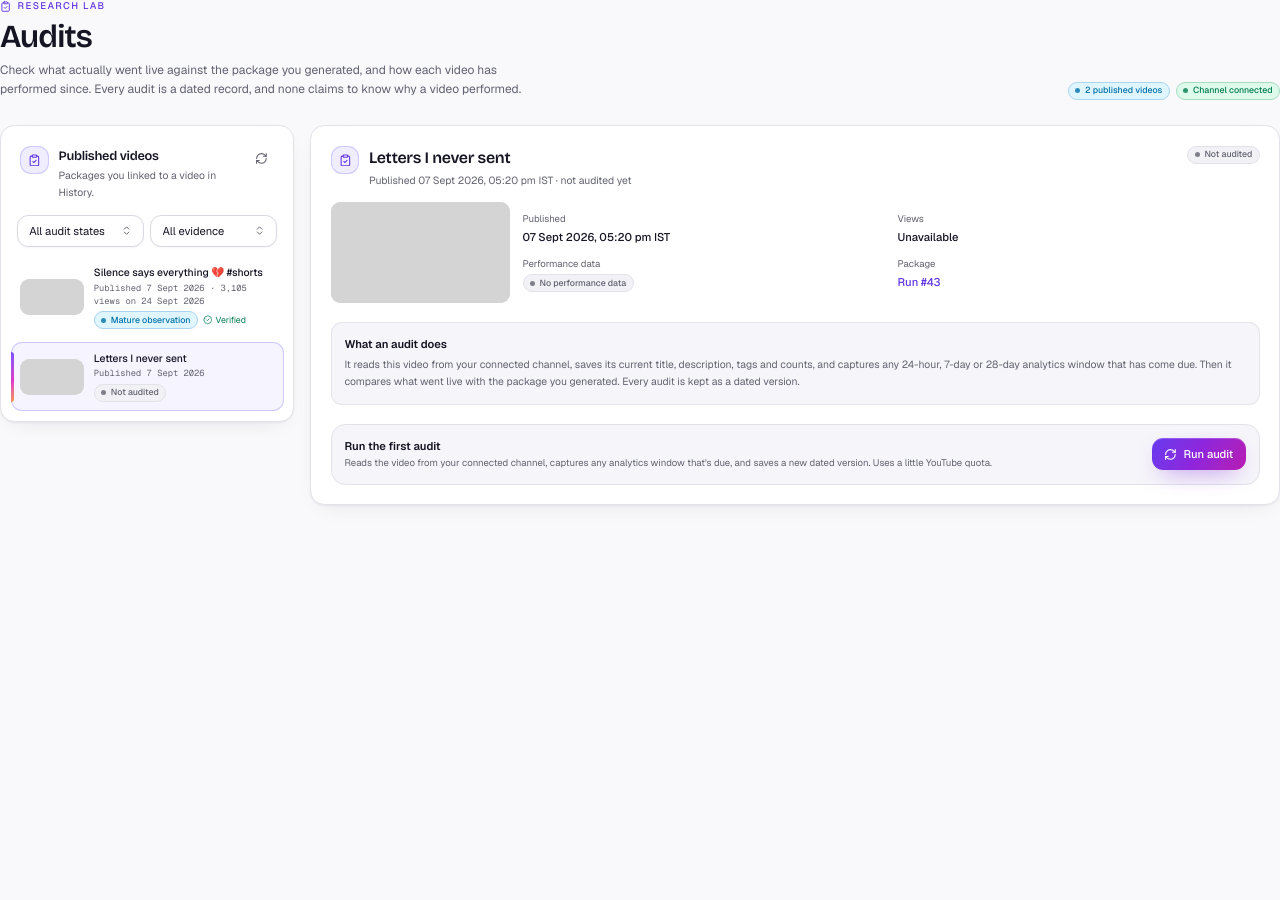
it: AuditsPage › runs the first audit of a video
The width and height of the screenshot is (1280, 900).
Expected: the text "What an audit does" is shown, x1=344 y1=337 x2=447 y2=351
Click the button "Run audit" at (1199, 454), box x1=1152 y1=438 x2=1246 y2=470
(page scrolled)
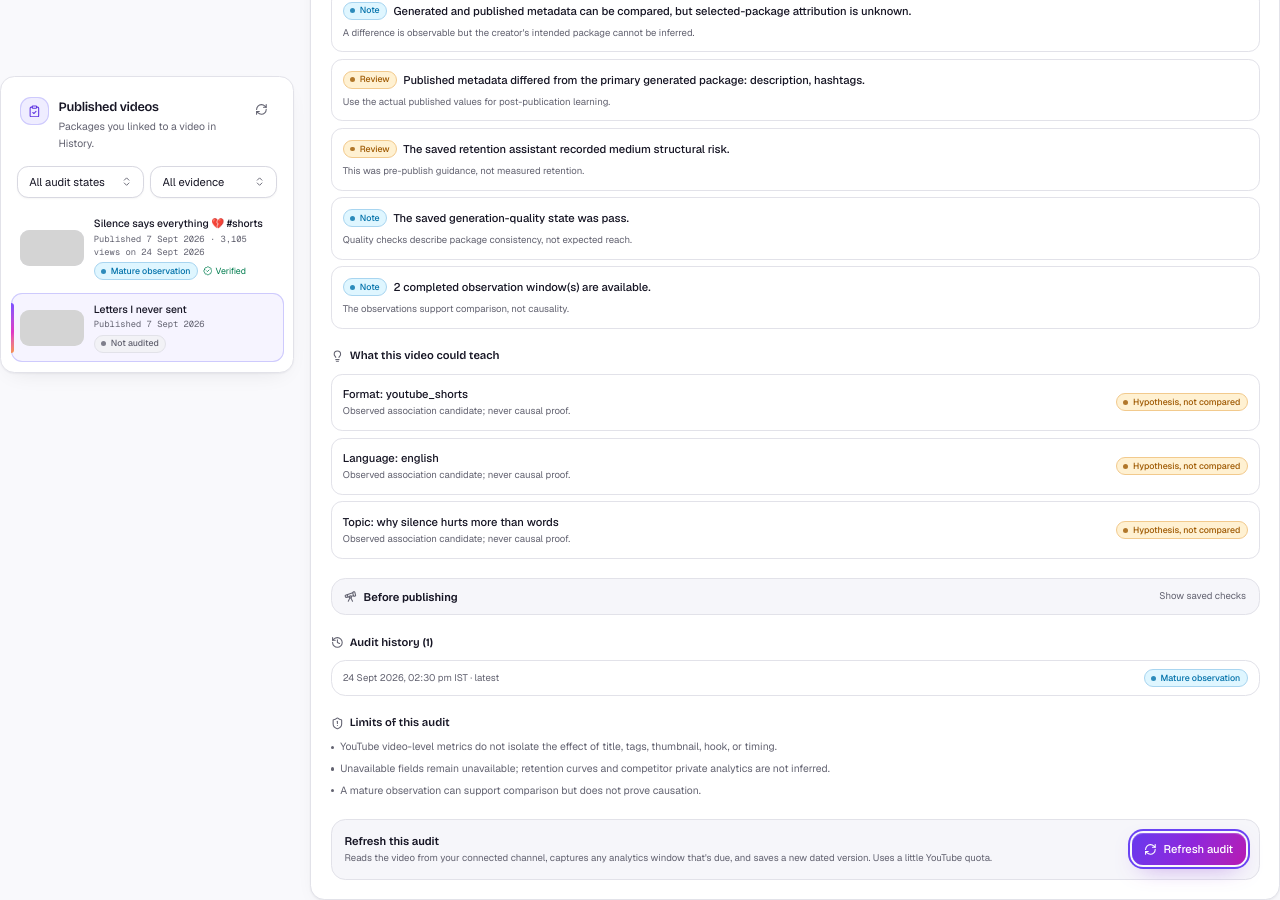
Result: the button "Refresh audit" is shown at x1=1132 y1=833 x2=1246 y2=865
